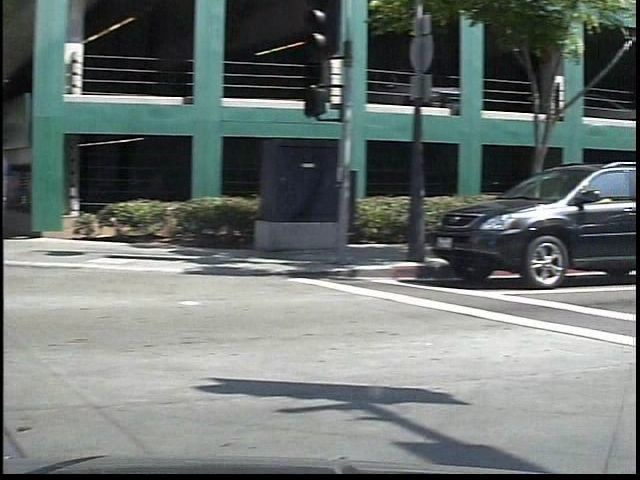person: (0, 136, 38, 243)
